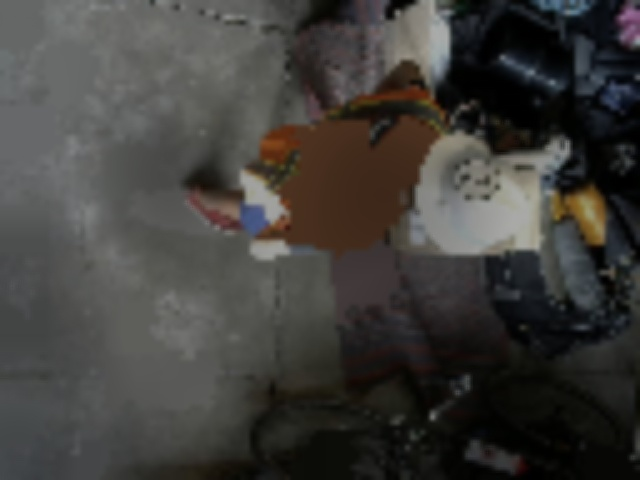one: (454, 161, 499, 200)
